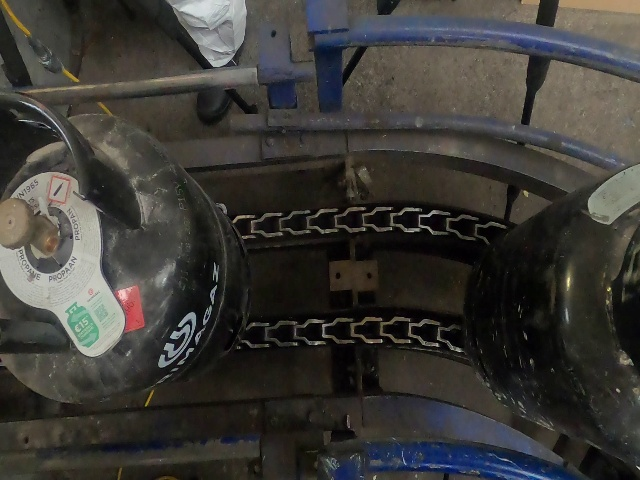gas_bottle: (1, 2, 640, 479)
